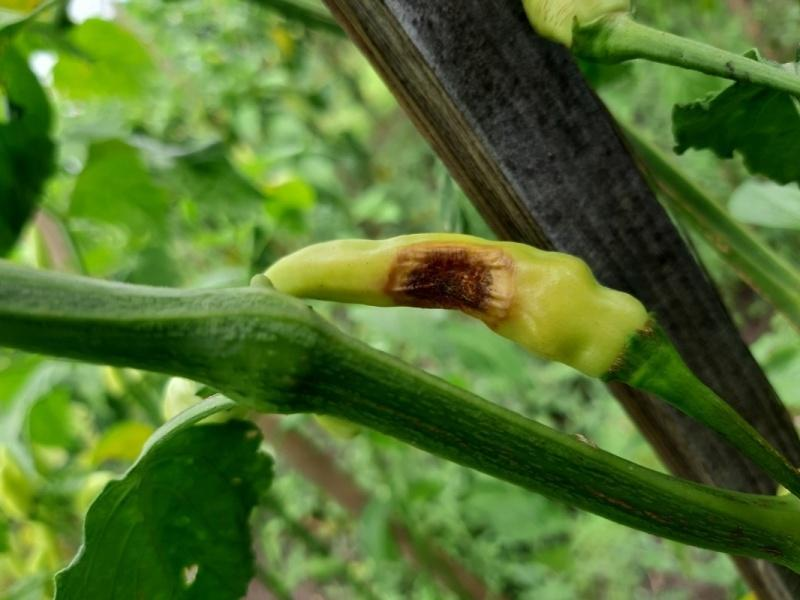antraknosa: (264, 234, 652, 376)
